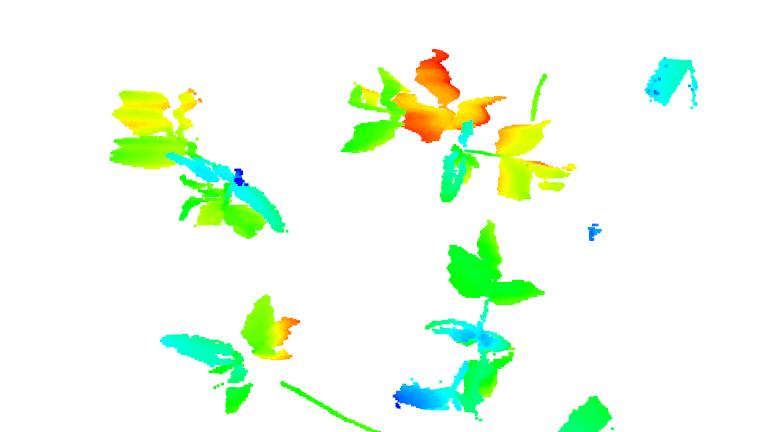mungbean: (341, 45, 574, 207), (395, 217, 548, 417), (105, 83, 293, 244), (160, 293, 302, 417)
